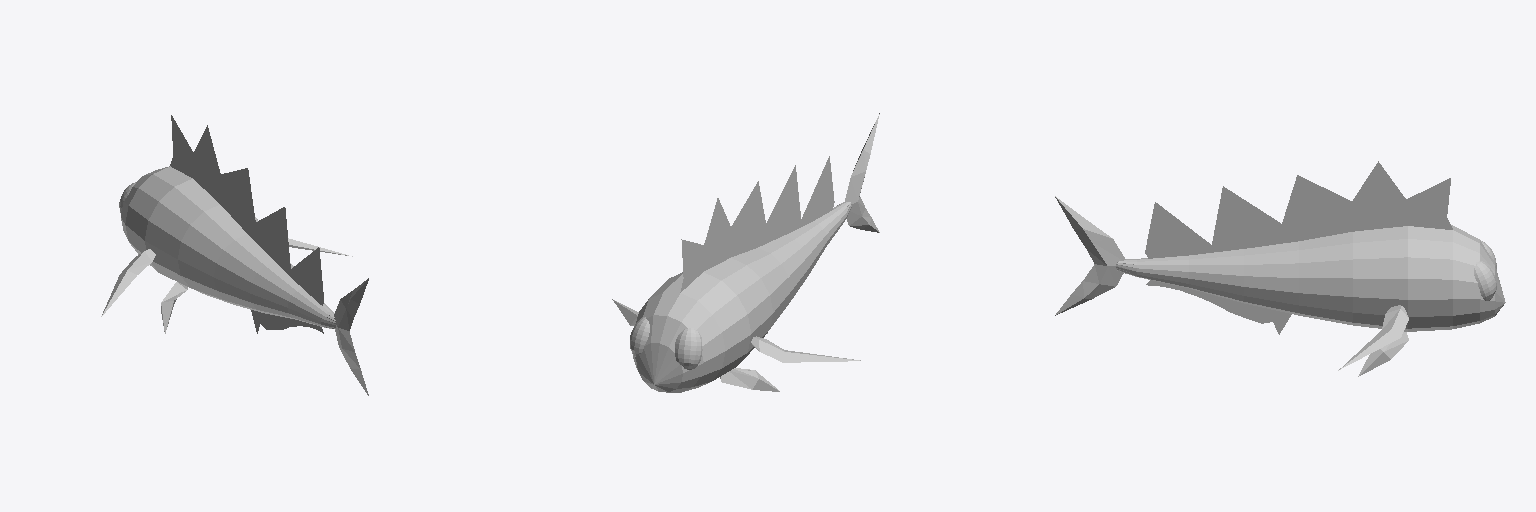
The model's file is mahi-mahi-domal.obj.
The picture shows the model from 3 angles: view 1: azimuth 30°, elevation 25°; view 2: azimuth 150°, elevation 25°; view 3: azimuth 270°, elevation 25°; orthographic projection.
Visible parts, largest first — view 1: Fish; view 2: Fish; view 3: Fish.
Part boxes in pixels (bbox=[...]): Fish: bbox=[101, 115, 368, 395]; Fish: bbox=[612, 113, 879, 392]; Fish: bbox=[1055, 161, 1505, 376].
Size of the model in its own units: 2.65 by 1.91 by 4.1.